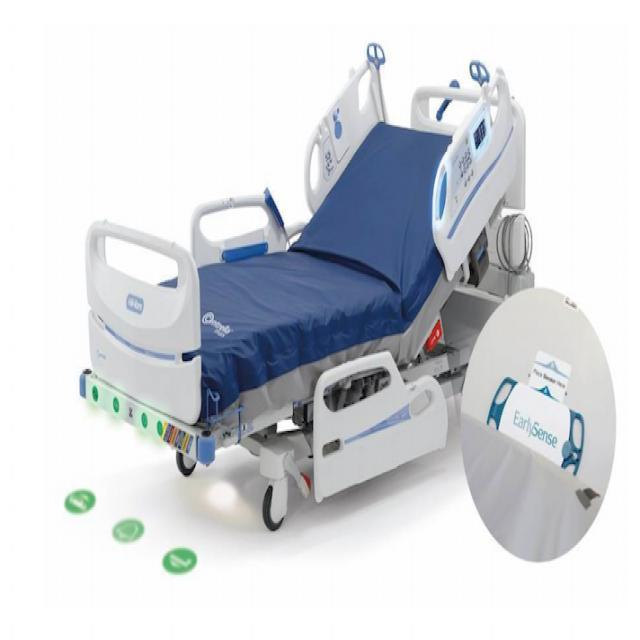patient_bed: (77, 68, 543, 525)
